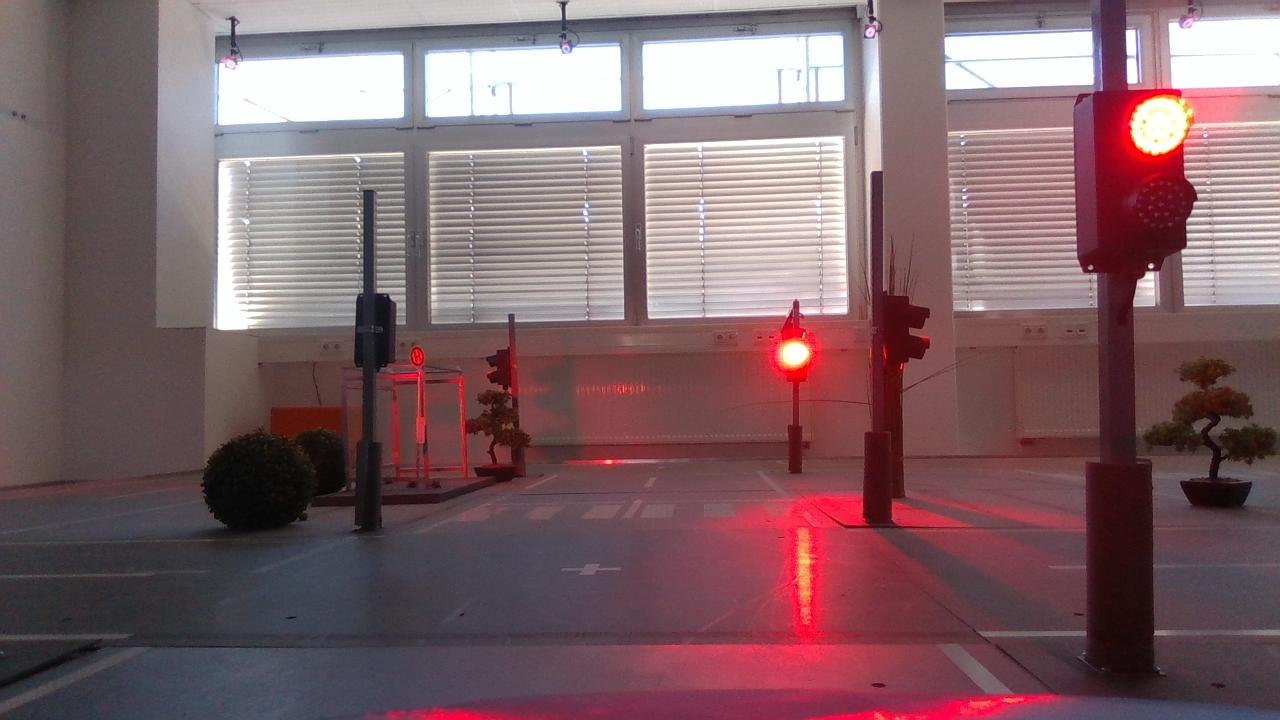traffic_light_red: (1059, 76, 1198, 278)
